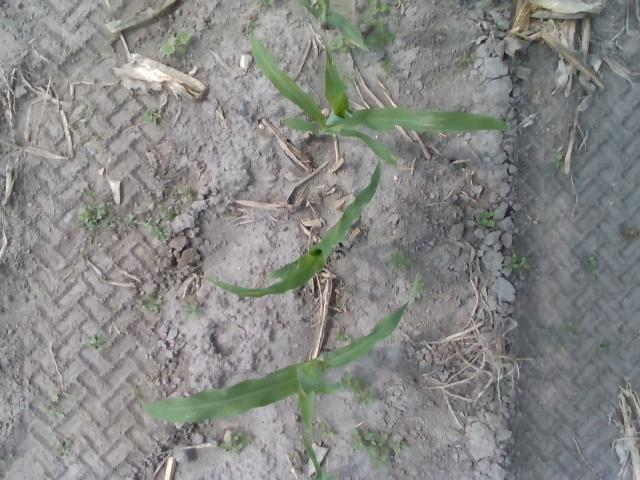Maize: (133, 271, 420, 480), (247, 28, 508, 168), (196, 160, 382, 297), (296, 0, 370, 52)
Weeds: (128, 211, 167, 240), (78, 202, 110, 232), (351, 428, 388, 449), (160, 30, 190, 55), (136, 294, 163, 312), (220, 432, 243, 453), (140, 107, 162, 125), (391, 252, 414, 268), (367, 33, 393, 47), (511, 254, 530, 273), (370, 450, 388, 470), (342, 372, 362, 390), (474, 211, 496, 227), (182, 300, 200, 318), (358, 388, 377, 404), (178, 186, 194, 204), (369, 0, 389, 14), (164, 205, 180, 221), (390, 437, 405, 453), (582, 255, 596, 272), (560, 321, 578, 334), (90, 332, 106, 346), (330, 38, 345, 52), (381, 59, 395, 74), (374, 18, 388, 32), (598, 340, 614, 352), (460, 51, 472, 65), (107, 216, 121, 228), (334, 331, 348, 342), (241, 432, 251, 447), (551, 154, 563, 166), (364, 15, 376, 26), (343, 70, 356, 80), (322, 426, 334, 436), (258, 0, 274, 6)
